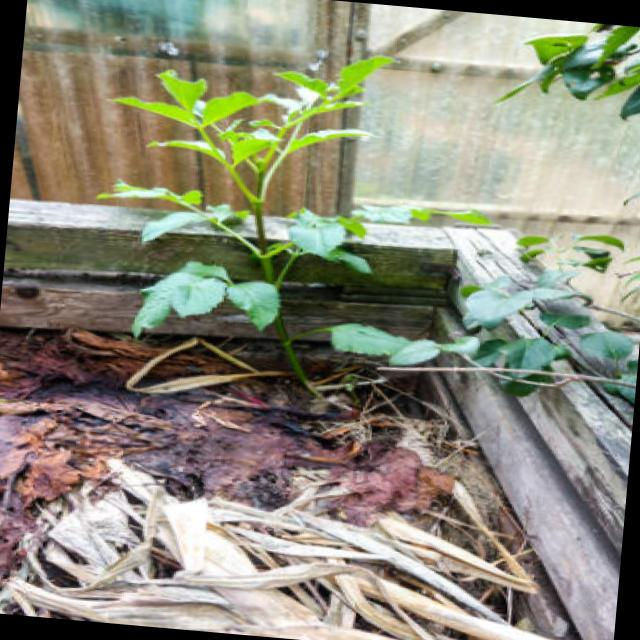paper: (96, 14, 455, 420), (36, 455, 625, 640), (0, 339, 273, 469)
